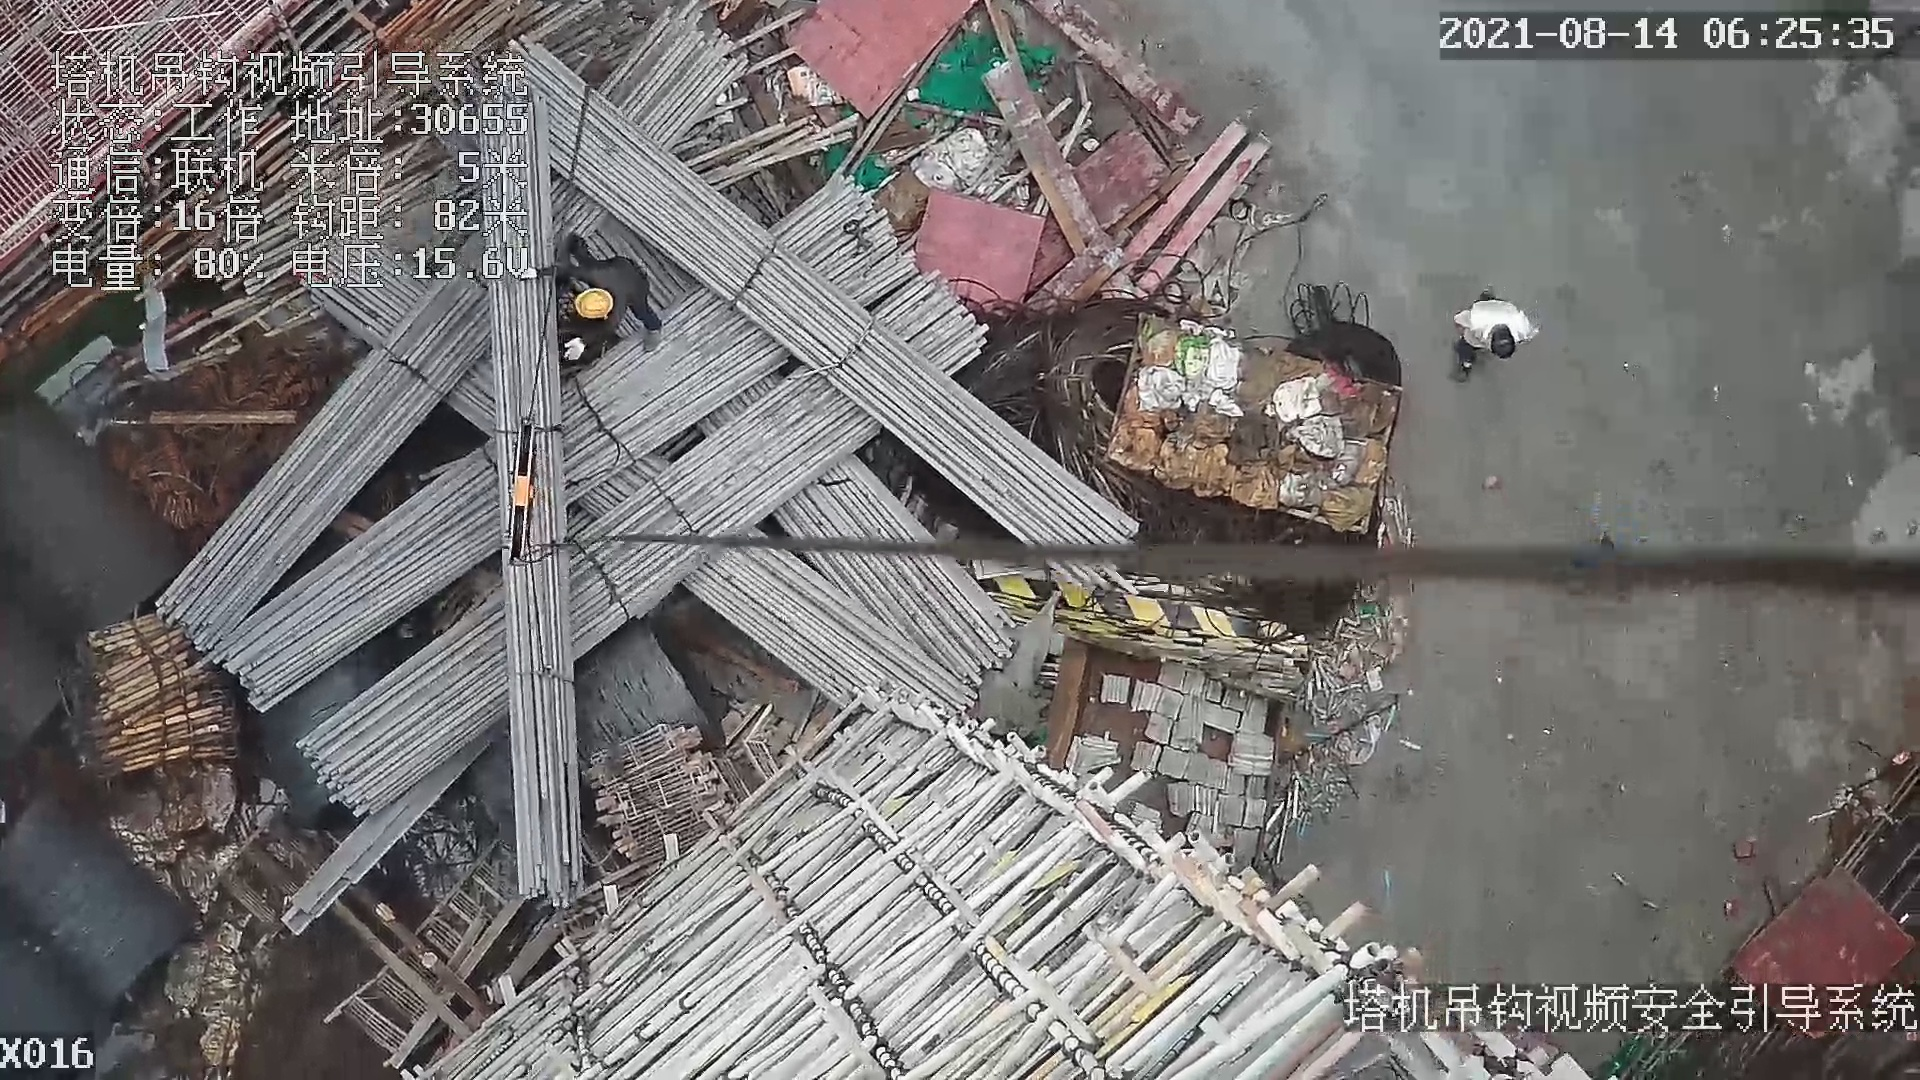helmet: (572, 286, 616, 322)
hook: (501, 413, 541, 571)
person: (535, 245, 676, 363), (1444, 285, 1535, 380)
